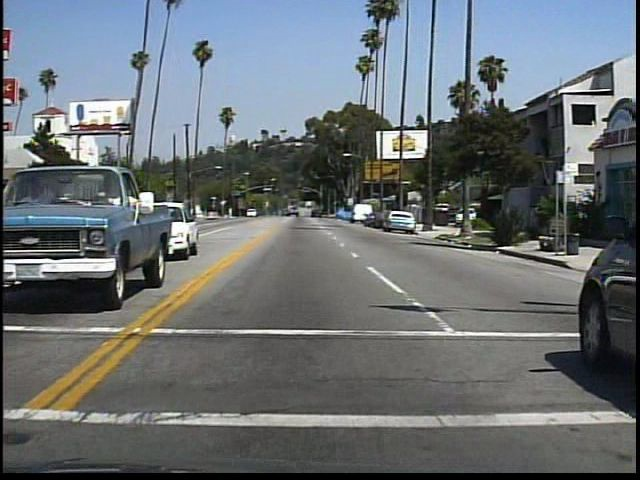person: (506, 198, 530, 250)
